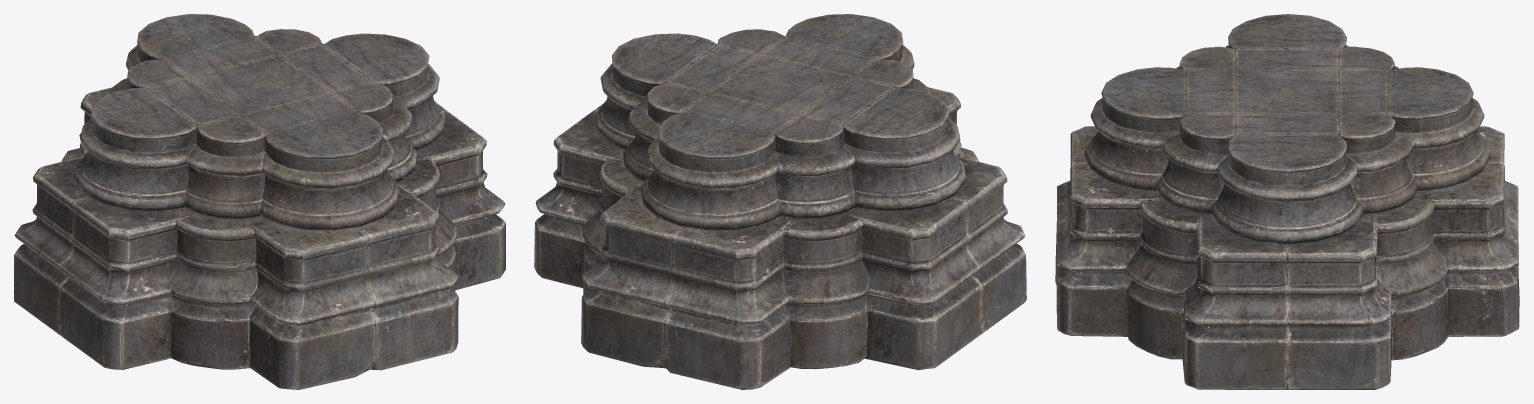
File: SM_Pillar_Base_02b.fbx
3 renders of one model, left to right at view 1: azimuth 30°, elevation 25°; view 2: azimuth 150°, elevation 25°; view 3: azimuth 270°, elevation 25°, orthographic.
Parts seen in each view (by area): view 1: SM_Pillar_Base_02b; view 2: SM_Pillar_Base_02b; view 3: SM_Pillar_Base_02b.
Part boxes in pixels (left/top/right/bottom): SM_Pillar_Base_02b: left=14, top=14, right=505, bottom=389; SM_Pillar_Base_02b: left=534, top=14, right=1026, bottom=389; SM_Pillar_Base_02b: left=1055, top=14, right=1519, bottom=389.
Bounding box in the file's own units: 312 × 150 × 312.
Materials: 1 (1 with a texture image).
